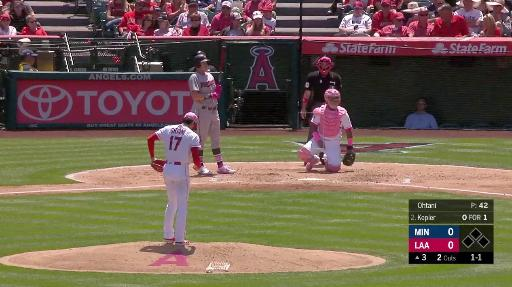pitcher: (146, 112, 204, 246)
